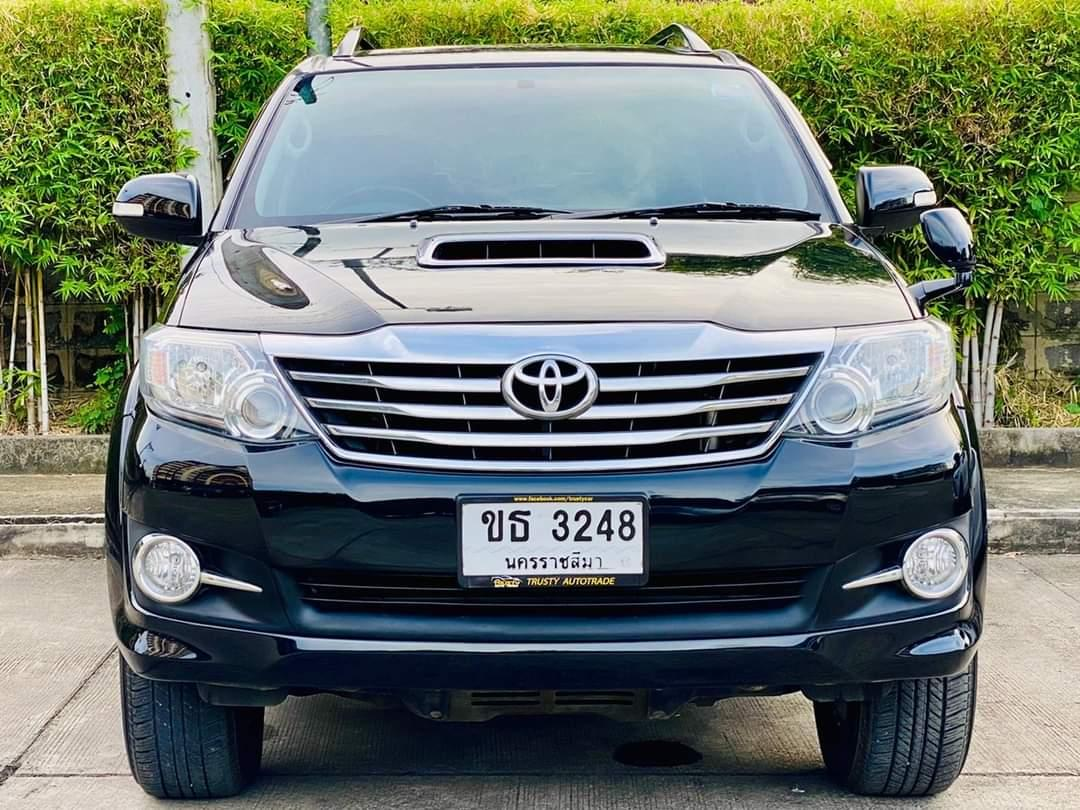license-plate: (453, 492, 650, 590)
